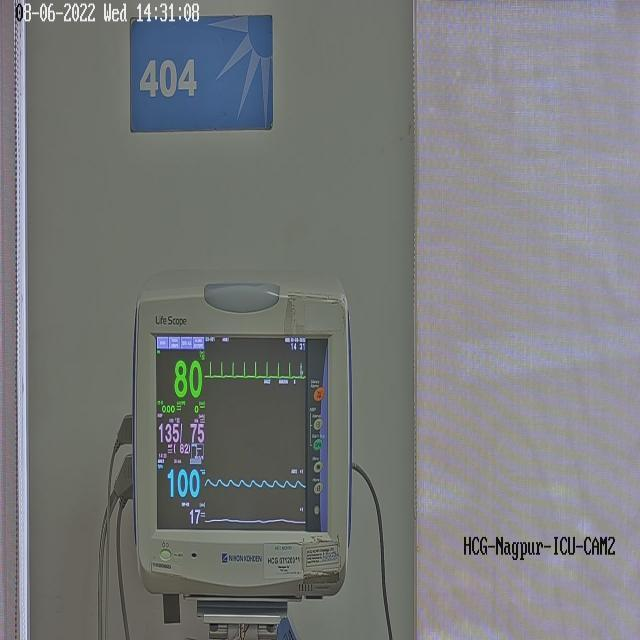Monitor: (131, 268, 353, 602)
